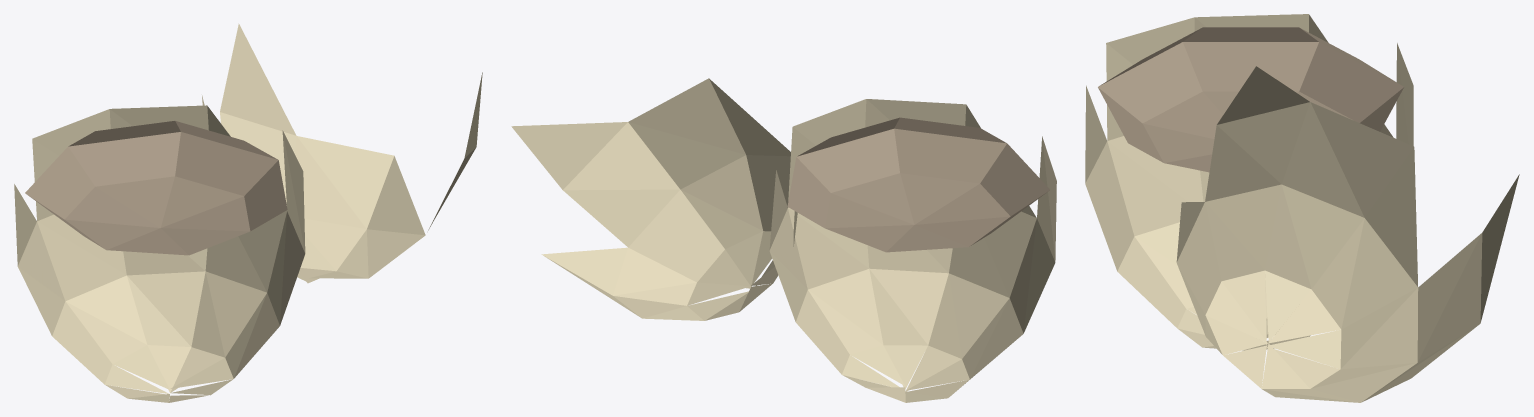
File: dragons-and-wyverns-dragon-egg-hatching-b15d0a8d__36736.glb
3 views of the same model, side by side, from view 1: azimuth 30°, elevation 25°; view 2: azimuth 150°, elevation 25°; view 3: azimuth 270°, elevation 25° (orthographic). The views are drawn at different scales.
Visible parts, largest first — view 1: dragon-egg-hatching; view 2: dragon-egg-hatching; view 3: dragon-egg-hatching.
Part boxes in pixels (left/top/right/bottom): dragon-egg-hatching: left=14, top=23, right=482, bottom=402; dragon-egg-hatching: left=511, top=78, right=1056, bottom=402; dragon-egg-hatching: left=1085, top=14, right=1519, bottom=402.
Bounding box in the file's own units: 0.6225 × 0.4116 × 0.4195.
